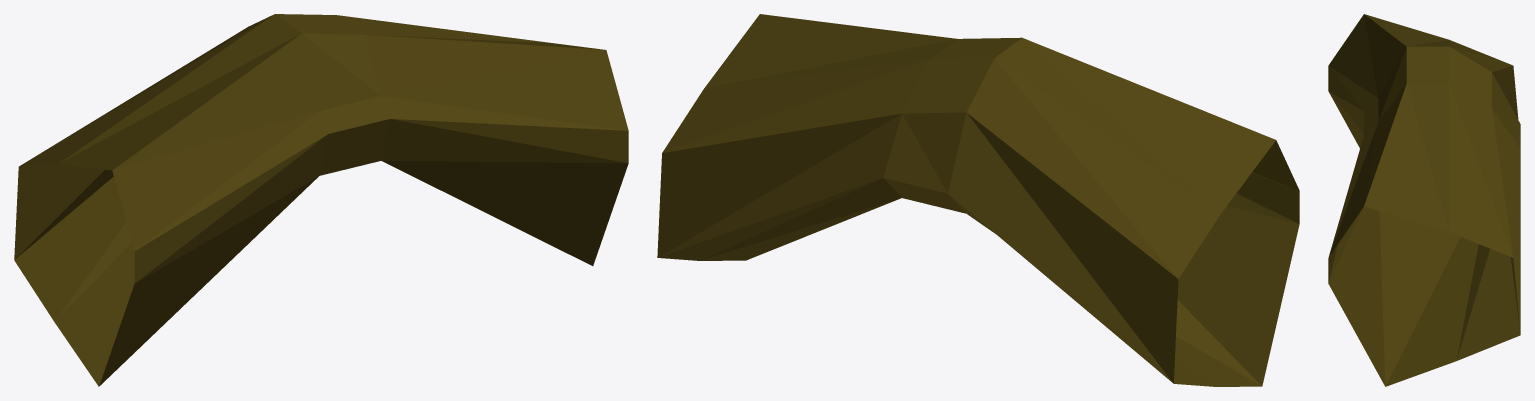
The model's file is obj_rock_25_0.obj.
3 views of the same model, side by side, from view 1: azimuth 30°, elevation 25°; view 2: azimuth 150°, elevation 25°; view 3: azimuth 270°, elevation 25° (orthographic). The views are drawn at different scales.
Bounding box in the file's own units: 1 × 0.5625 × 0.4219.
